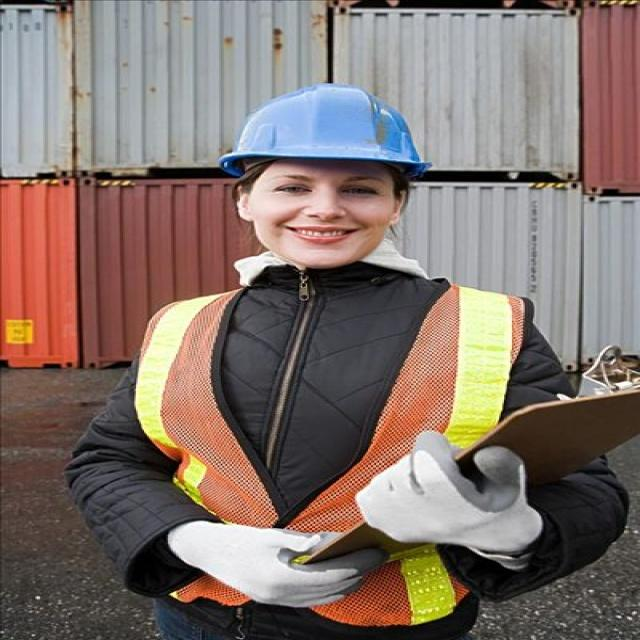helmet: (188, 81, 457, 399)
vest: (132, 340, 541, 640)
